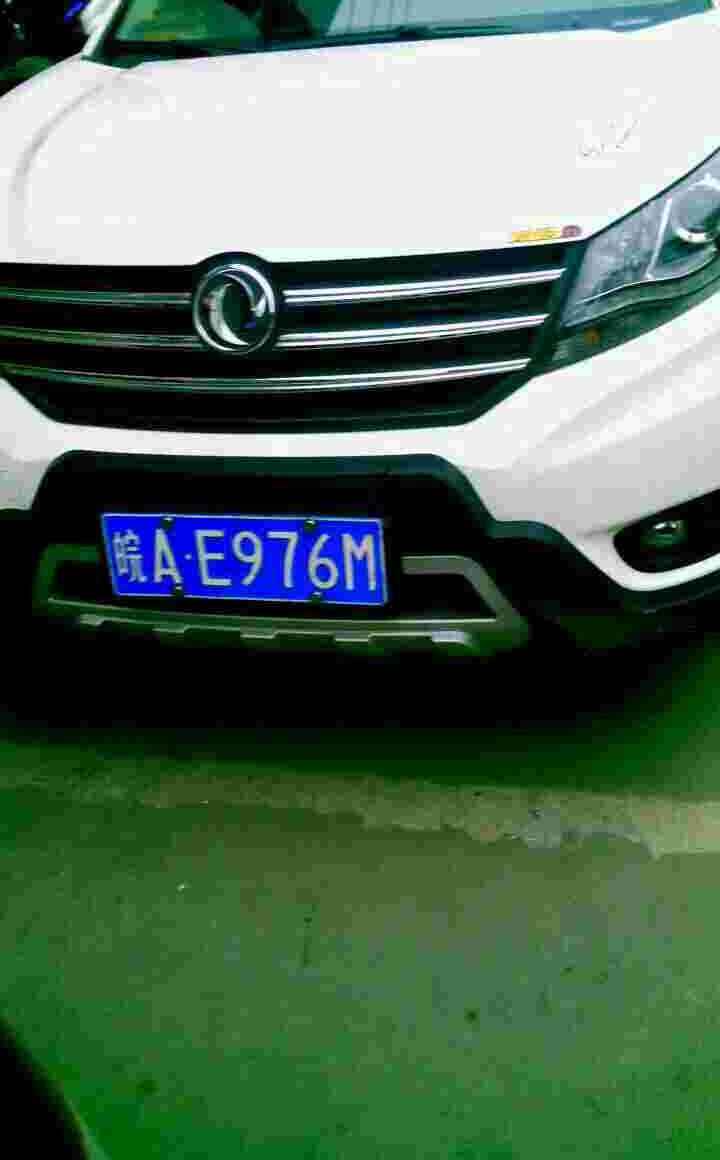license_plate: (104, 519, 389, 607)
